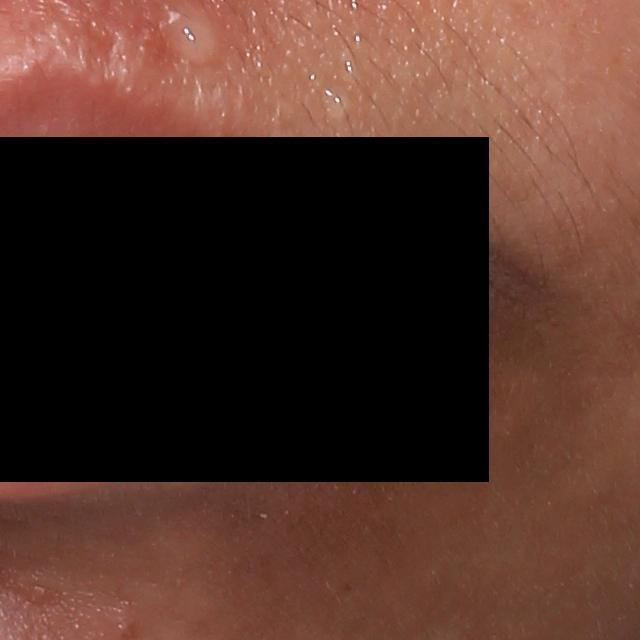papule: (111, 613, 149, 640)
